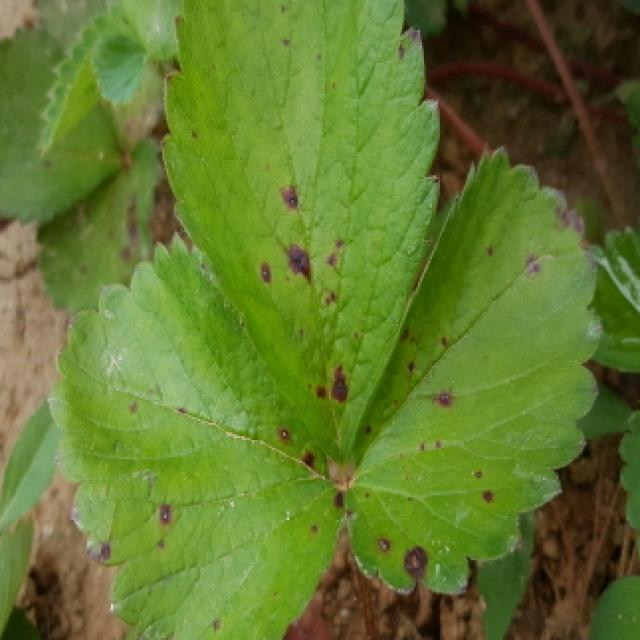Leaf Spot: (159, 0, 443, 466), (43, 228, 346, 640), (337, 141, 606, 597), (0, 19, 123, 227), (33, 132, 166, 322)
